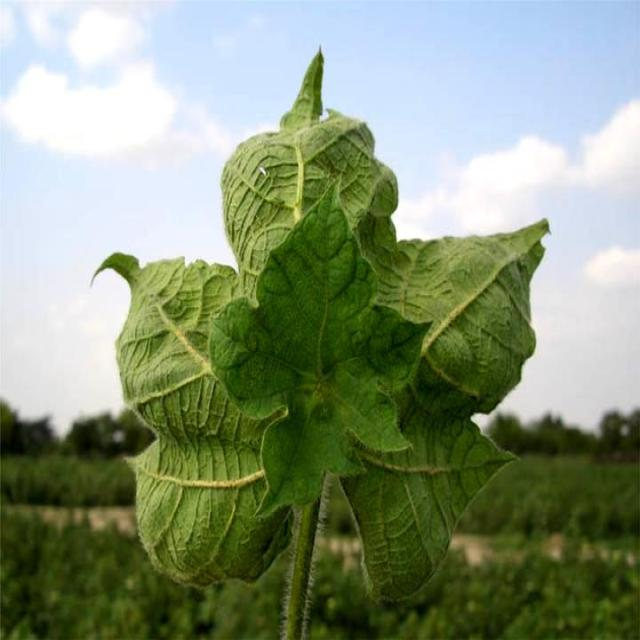Leaf Curl Virus: (138, 150, 488, 576)
